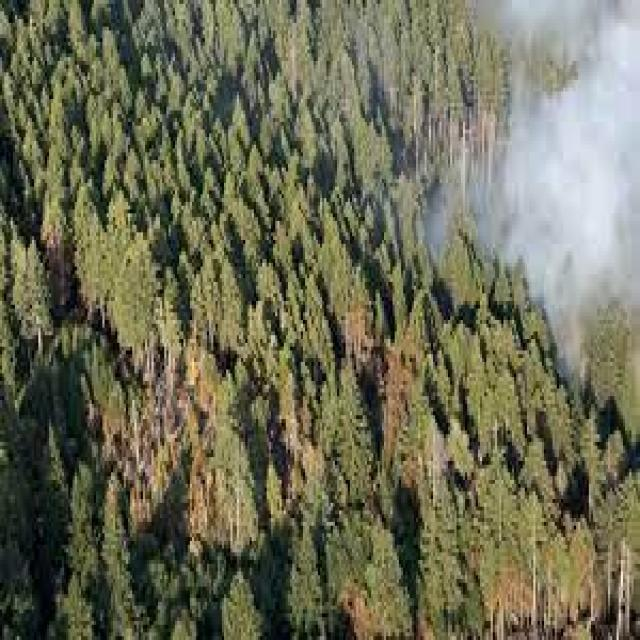Smoke: (500, 0, 640, 359)
